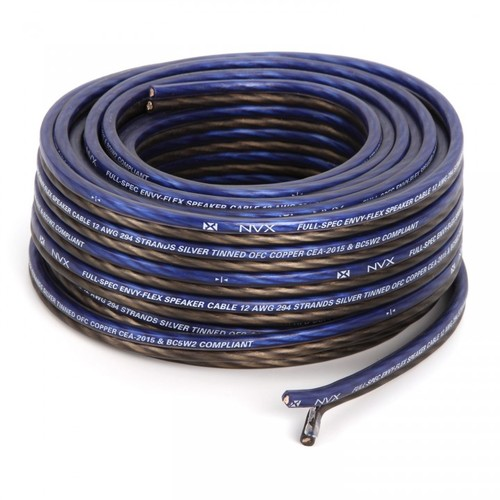Nonrec_Tangler: (13, 46, 476, 455)
